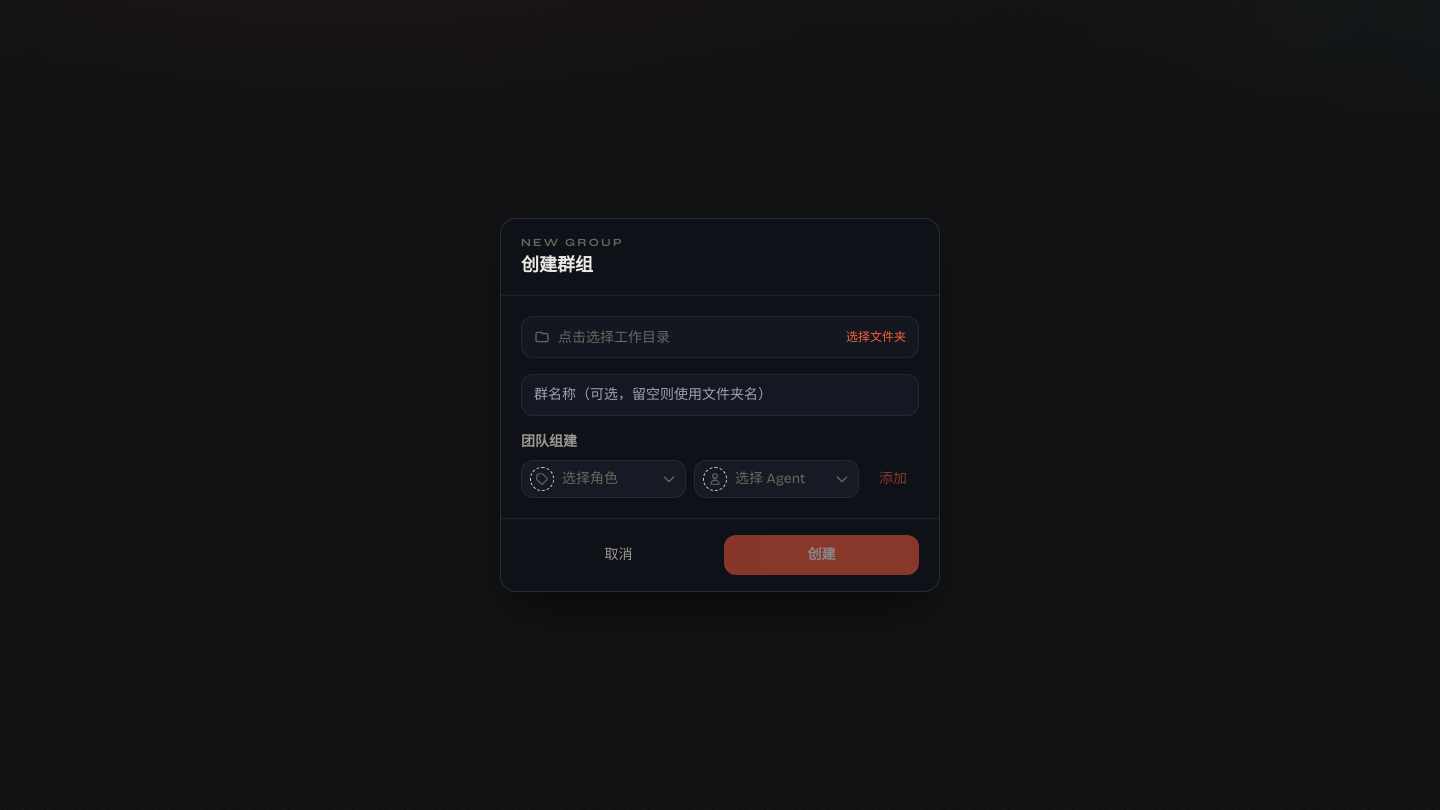
Test: CreateGroupModal › allows a collaboration group to share a repository with a direct chat
Click the button "点击选择工作目录 选择文件夹" at (614, 337), box 521,316 -> 919,358
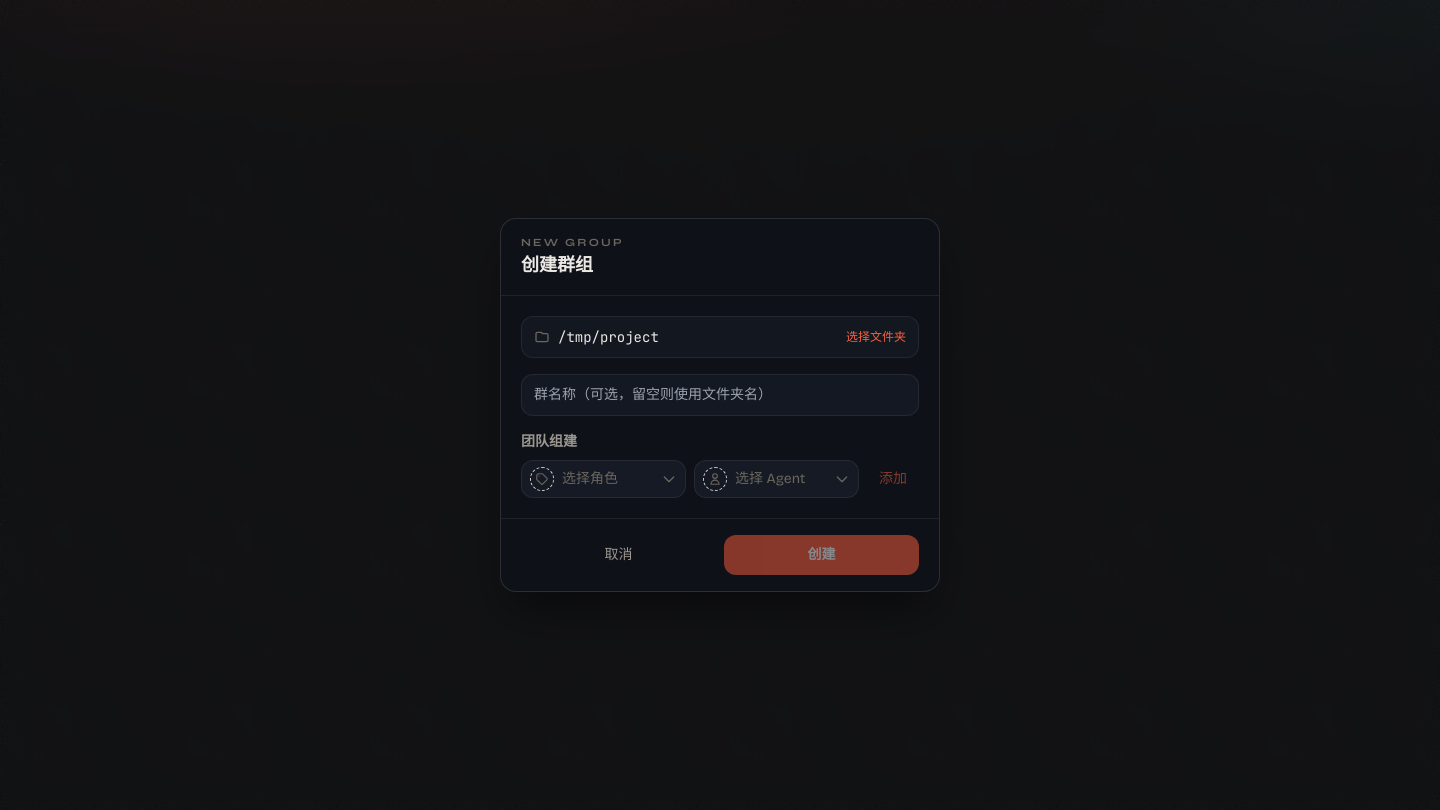
Check: the text "/tmp/project" is shown, box 558,328 -> 659,346
